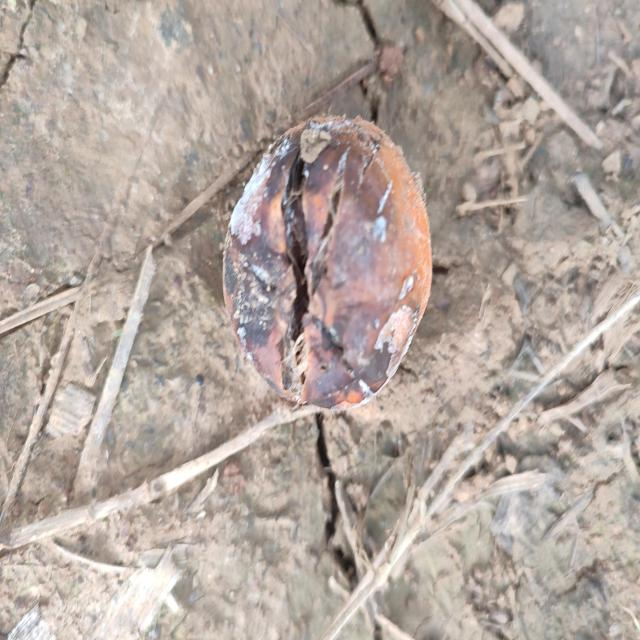damaged: (222, 116, 433, 409)
